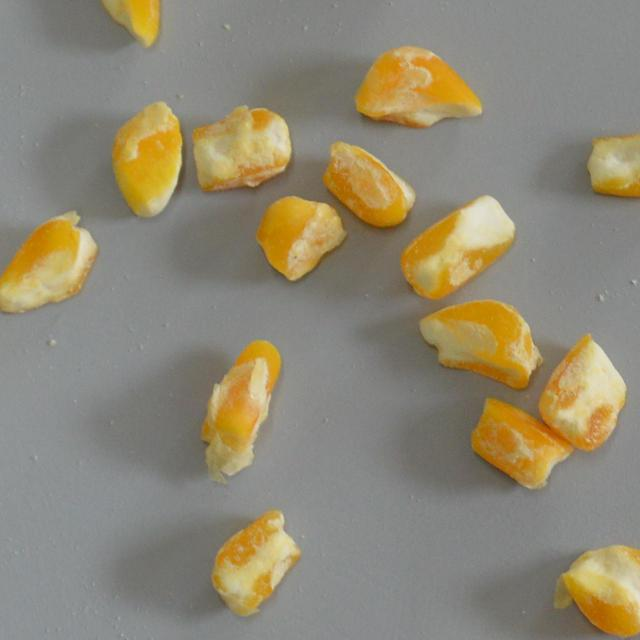dañado: (192, 328, 283, 490), (398, 193, 520, 302), (348, 39, 488, 131), (414, 293, 546, 388), (535, 325, 631, 452), (466, 389, 579, 496), (0, 206, 101, 319), (188, 94, 297, 196), (205, 508, 302, 618), (108, 94, 186, 224), (319, 136, 422, 230), (547, 540, 640, 640), (52, 0, 165, 56), (583, 118, 640, 203)
punto_negro: (250, 190, 352, 288)
